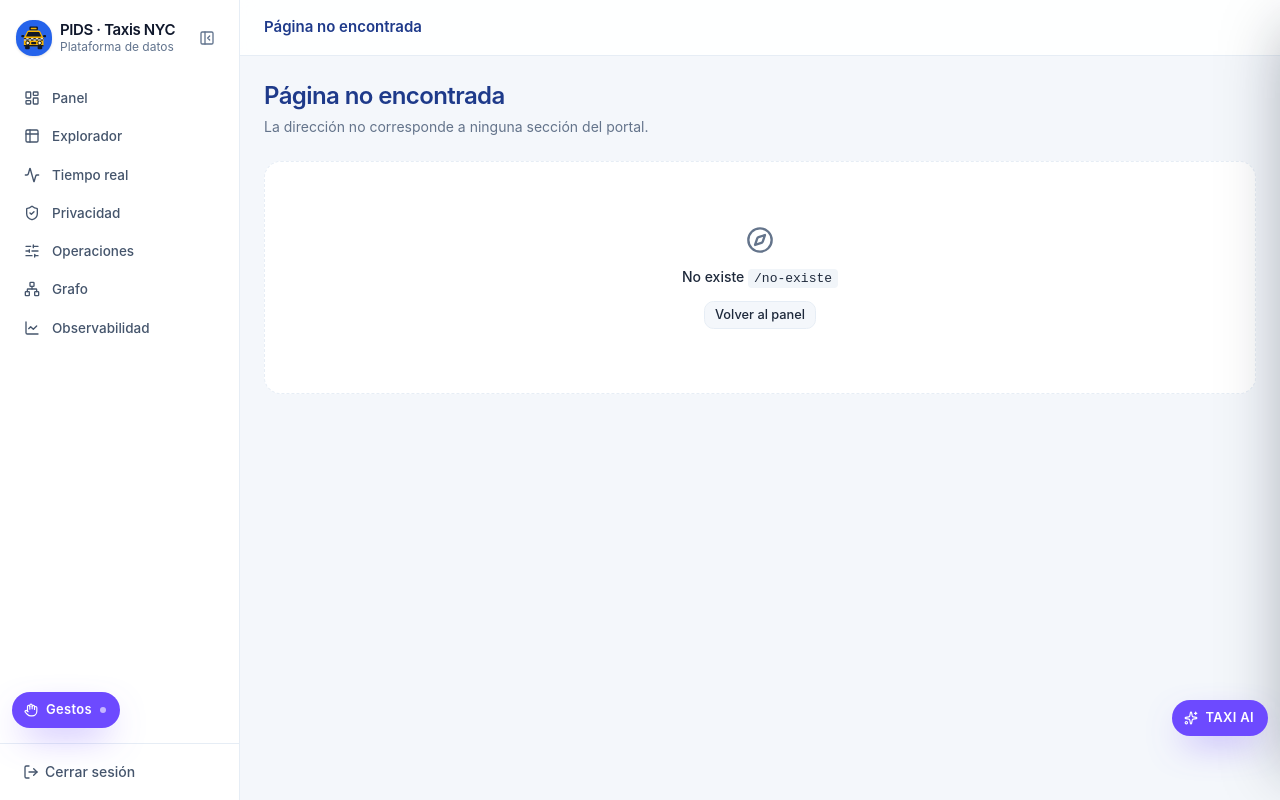
Test case: Asistente (panel TAXI AI) › muestra los motores, deshabilita el que no está disponible y abre una sesión con el primero disponible
Click the button with aria-label "Abrir TAXI AI, el asistente de datos": (1220, 718) x1=1172 y1=700 x2=1268 y2=736
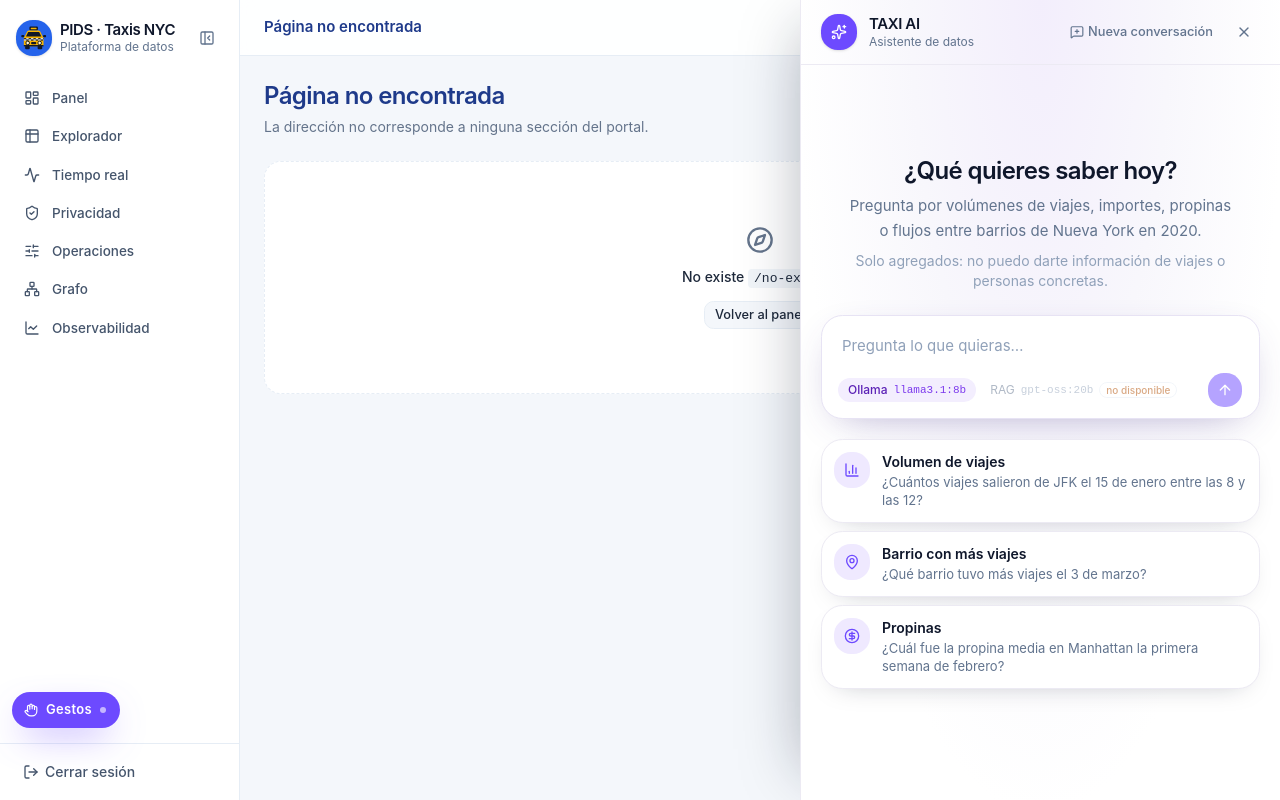
Expected: the radio button labelled "Ollama llama3.1:8b" is shown, x1=838 y1=378 x2=976 y2=402
Expected: the radio button labelled "RAG gpt-oss:20b no disponible" is disabled, x1=980 y1=378 x2=1188 y2=402
Expected: the radio button labelled "RAG gpt-oss:20b no disponible" is shown, x1=980 y1=378 x2=1188 y2=402
